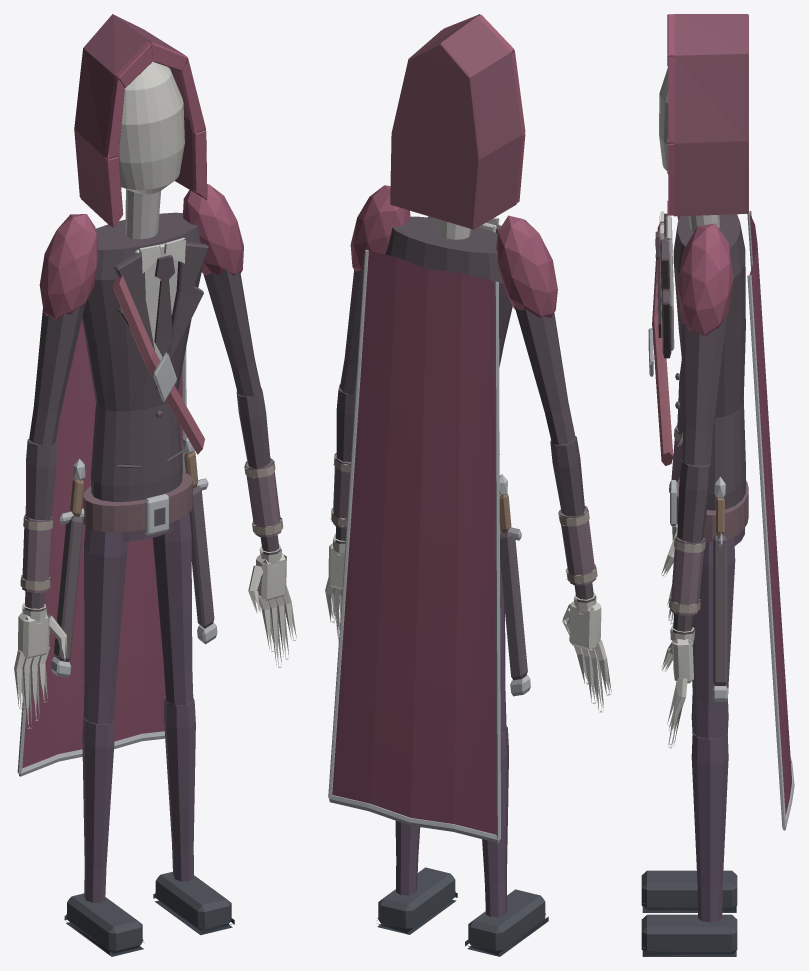
Rendered from SlendermanAssassin.glb.
3 views of the same model, side by side, from view 1: azimuth 30°, elevation 25°; view 2: azimuth 150°, elevation 25°; view 3: azimuth 270°, elevation 25° (orthographic).
Parts seen in each view (by area): view 1: Body, Head, ArmR, LegR, ArmL, LegL; view 2: Body, Head, ArmR, ArmL, LegR, LegL; view 3: Body, Head, ArmL, LegL, LegR, ArmR.
Boxes of the visible parts, x1,y1,x2,y2 form: Body: (17,189,217,776); Head: (74,14,207,227); ArmR: (14,214,98,728); LegR: (64,527,143,956); ArmL: (183,184,296,667); LegL: (152,513,234,935); Body: (328,216,530,843); Head: (390,14,525,229); ArmR: (496,215,611,712); ArmL: (325,185,410,641); LegR: (465,561,548,956); LegL: (377,821,457,934); Body: (648,211,794,830); Head: (659,14,748,216); ArmL: (661,223,733,748); LegL: (641,537,737,956); LegR: (641,695,737,912); ArmR: (661,216,683,624).
Size of the model in its own units: 2.68 by 8.26 by 1.27.
